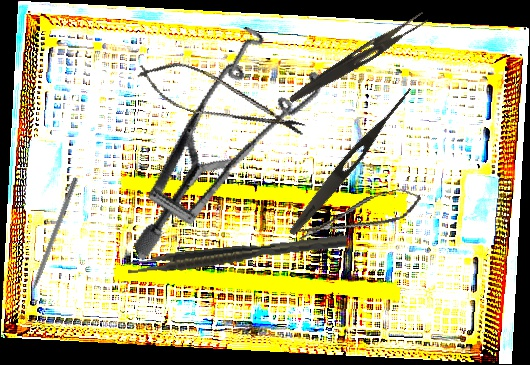Dressing Forceps: (285, 83, 416, 239), (287, 6, 429, 111)
Micro Scissor: (130, 50, 313, 149), (293, 183, 425, 247)
Pusher: (21, 175, 79, 312)
Speculum: (76, 8, 361, 261)
Tissue Forceps: (126, 234, 349, 277)
